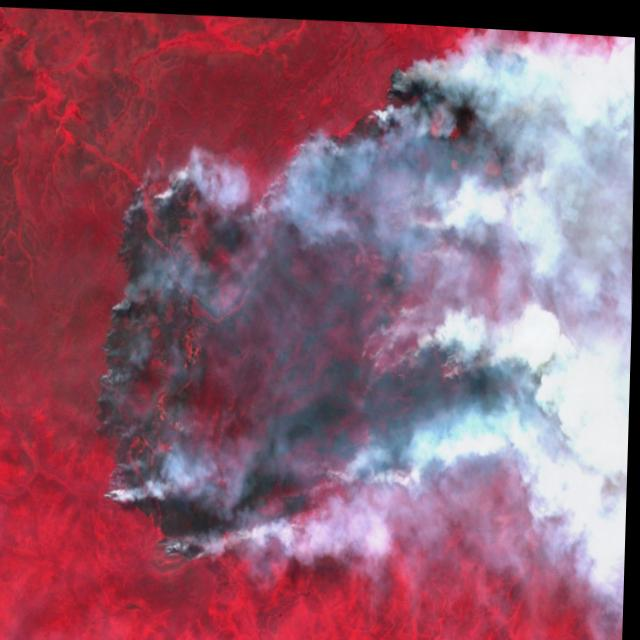fire: (75, 4, 576, 593)
